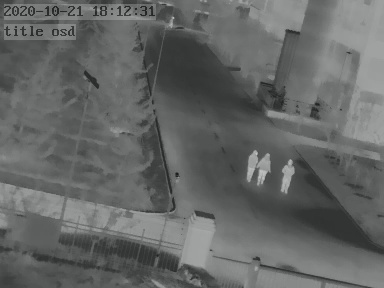person: (246, 147, 260, 184), (282, 157, 296, 192), (257, 153, 271, 184), (168, 15, 174, 29)
